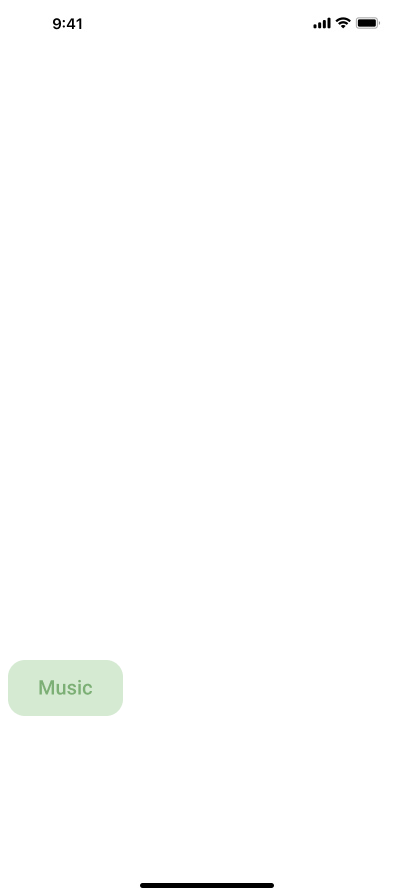Buttons: (8, 660, 131, 716)
Home Indicator: (0, 862, 414, 896)
Status Bar: (0, 0, 414, 44)
